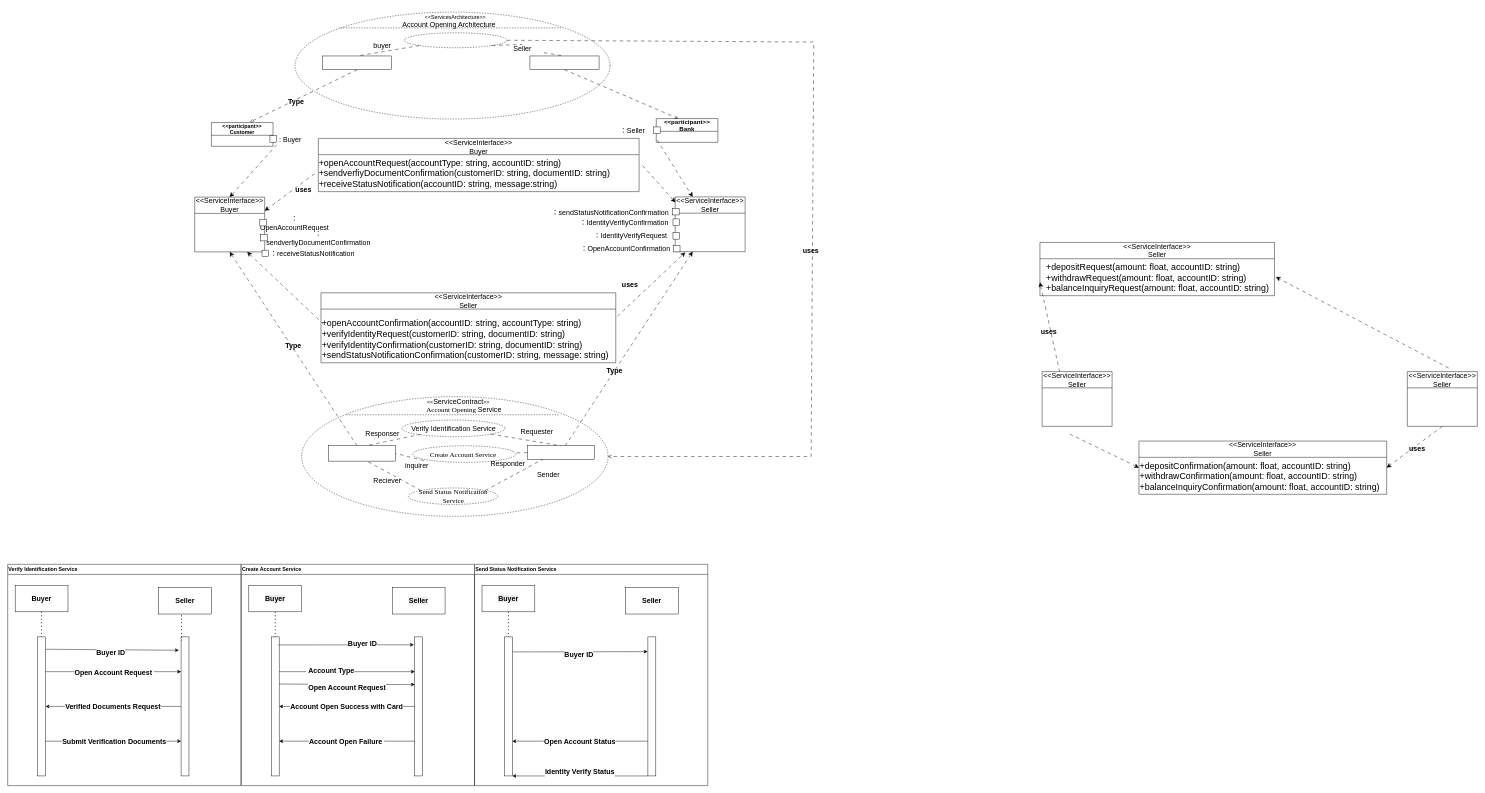
Some shapes in this 1485 by 793 pixel diagram are drawn without their labels. Here are the shapes that lost their labels. From the top down, the centre of each, then its label:
At point 455,40: "PS: Account Opening Service".
At point 357,63: "customer: Customer".
At point 564,63: "bank: Bank".
At point 362,453: "buyer: Buyer".
At point 560,452: "seller: Seller".
